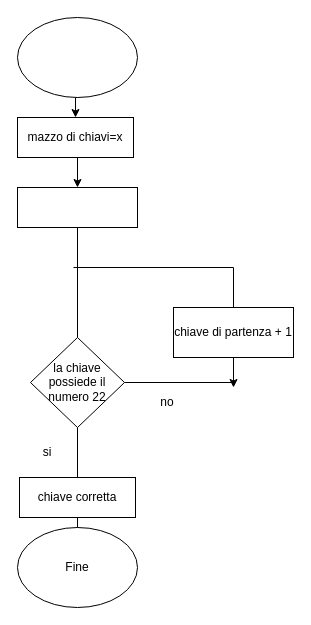
Image size: 311x625. Some labels were removed from this diagram. The shapes that lost their labels are listed below. From the top down, each one's centre as x and y in pixels, then its label:
At [77,57]: "inizio".
At [77,207]: "seleziono chiave di partenza".
